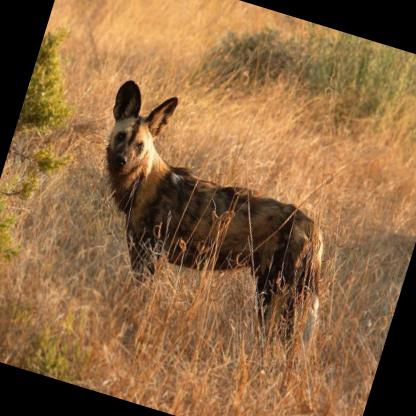African_hunting_dog: (58, 74, 372, 355)
